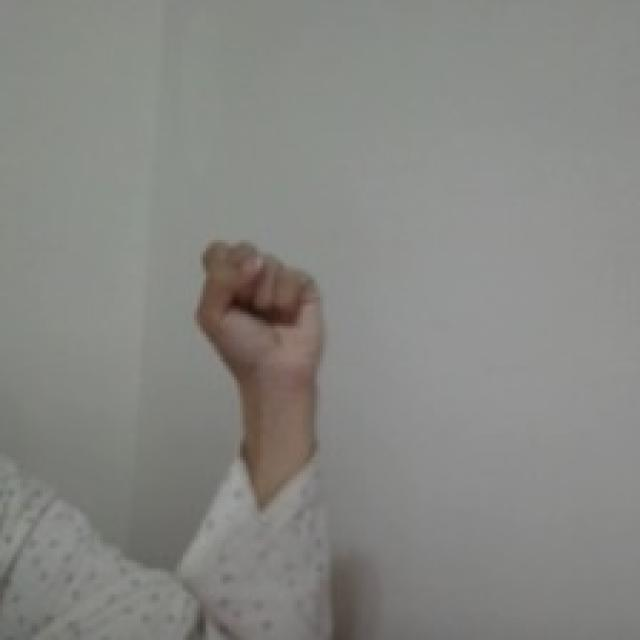yes: (191, 235, 333, 376)
